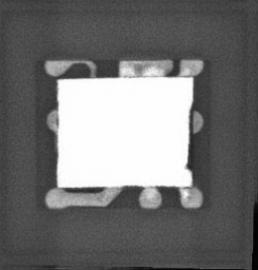DIE_BROKEN: (183, 102, 195, 173)
